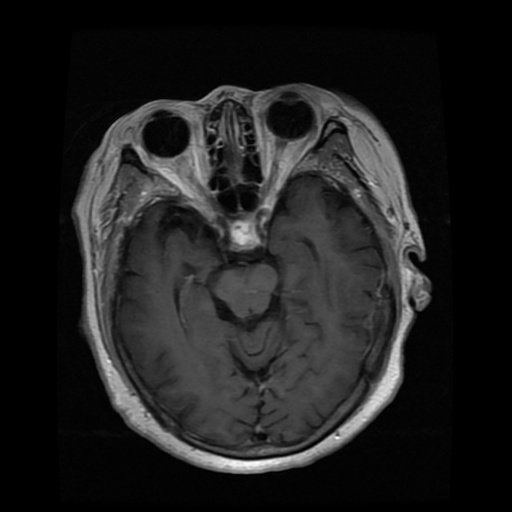pituitary: (228, 216, 259, 249)
